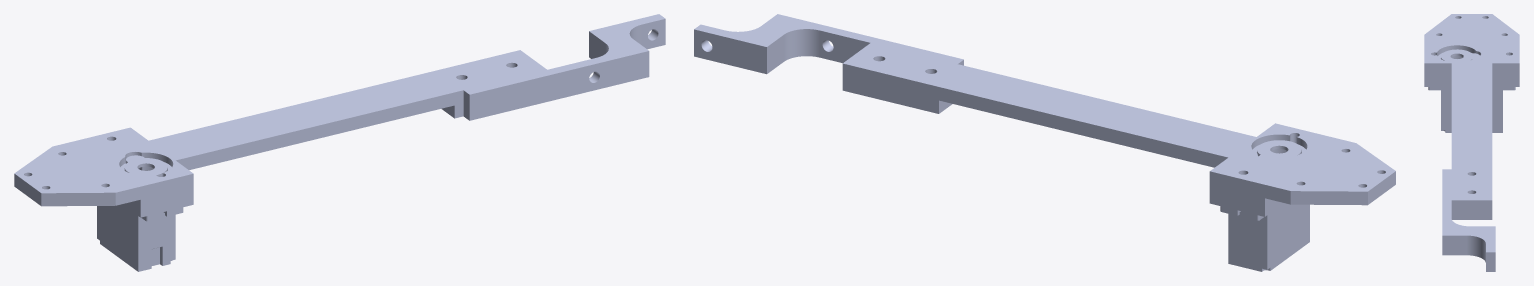
Rendered from gripper_link.dae.
3 views of the same model, side by side, from view 1: azimuth 30°, elevation 25°; view 2: azimuth 150°, elevation 25°; view 3: azimuth 270°, elevation 25° (orthographic). The views are drawn at different scales.
Parts seen in each view (by area): view 1: gripper_link; view 2: gripper_link; view 3: gripper_link.
Part boxes in pixels (bbox=[...]): gripper_link: bbox=[14, 14, 665, 271]; gripper_link: bbox=[694, 14, 1395, 271]; gripper_link: bbox=[1424, 14, 1519, 271].
Bounding box in the file's own units: 0.2072 × 0.035 × 0.0292.
